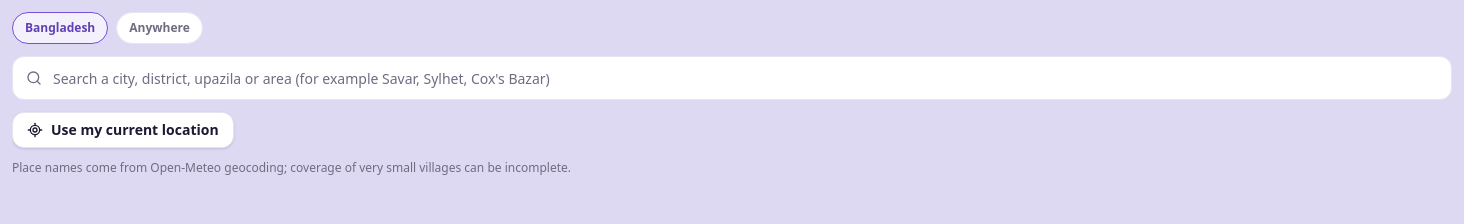
it: location search › current location › if permission is denied, explains and points to manual search
Step 1. Click the button "Use my current location" → (123, 130), box [12, 112, 234, 148]
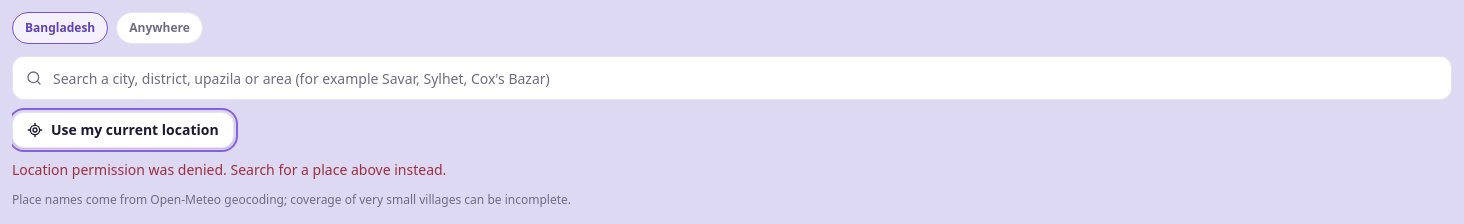
Now the message reads "Location permission was denied. Search for a place above instead.", box [12, 160, 446, 179]
